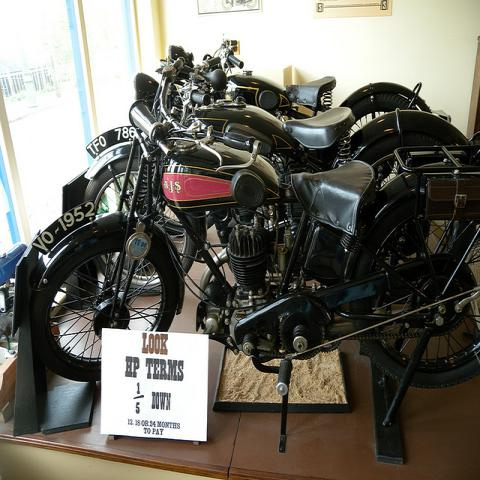motorcycle: (21, 45, 479, 458), (55, 78, 465, 214), (135, 33, 431, 128)
